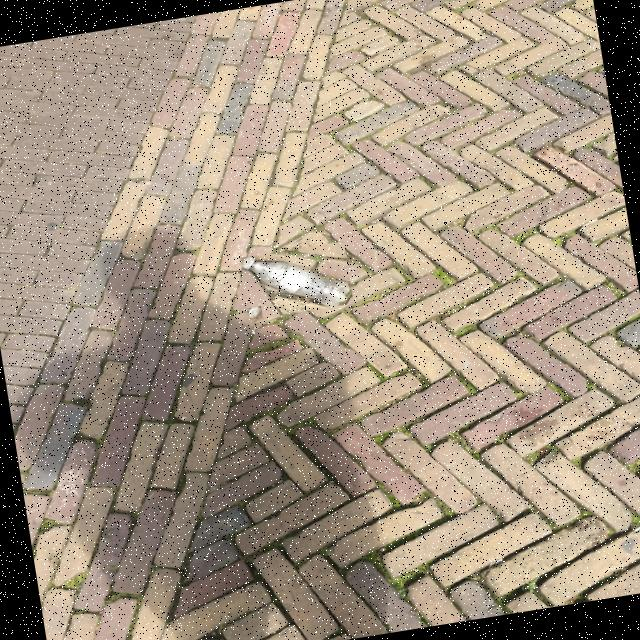Clear plastic bottle: (242, 256, 351, 306)
Plastic bottle cap: (251, 307, 262, 319)
Unlabeled litter: (632, 526, 640, 534)
